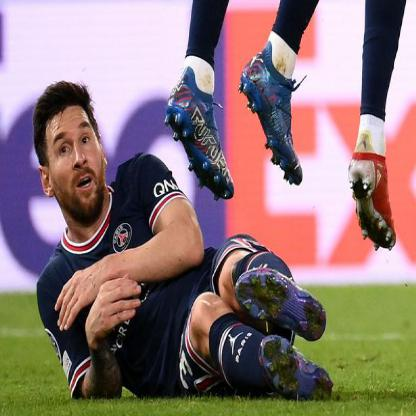football player lies: (20, 86, 340, 395)
